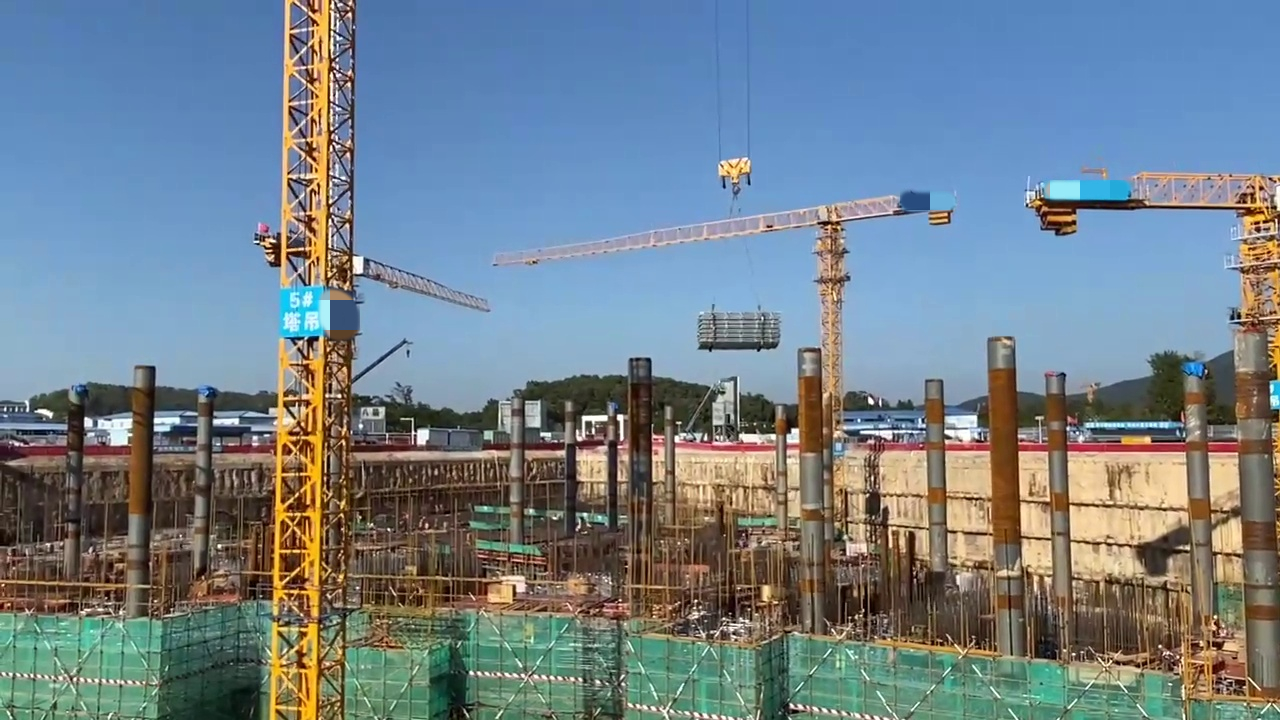hook: (716, 157, 753, 184)
scaffold: (696, 309, 781, 348)
